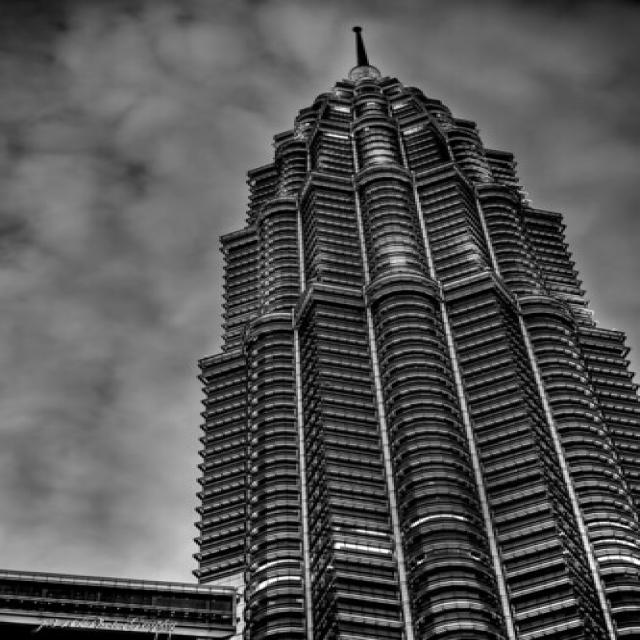Normal_building: (177, 21, 638, 636)
